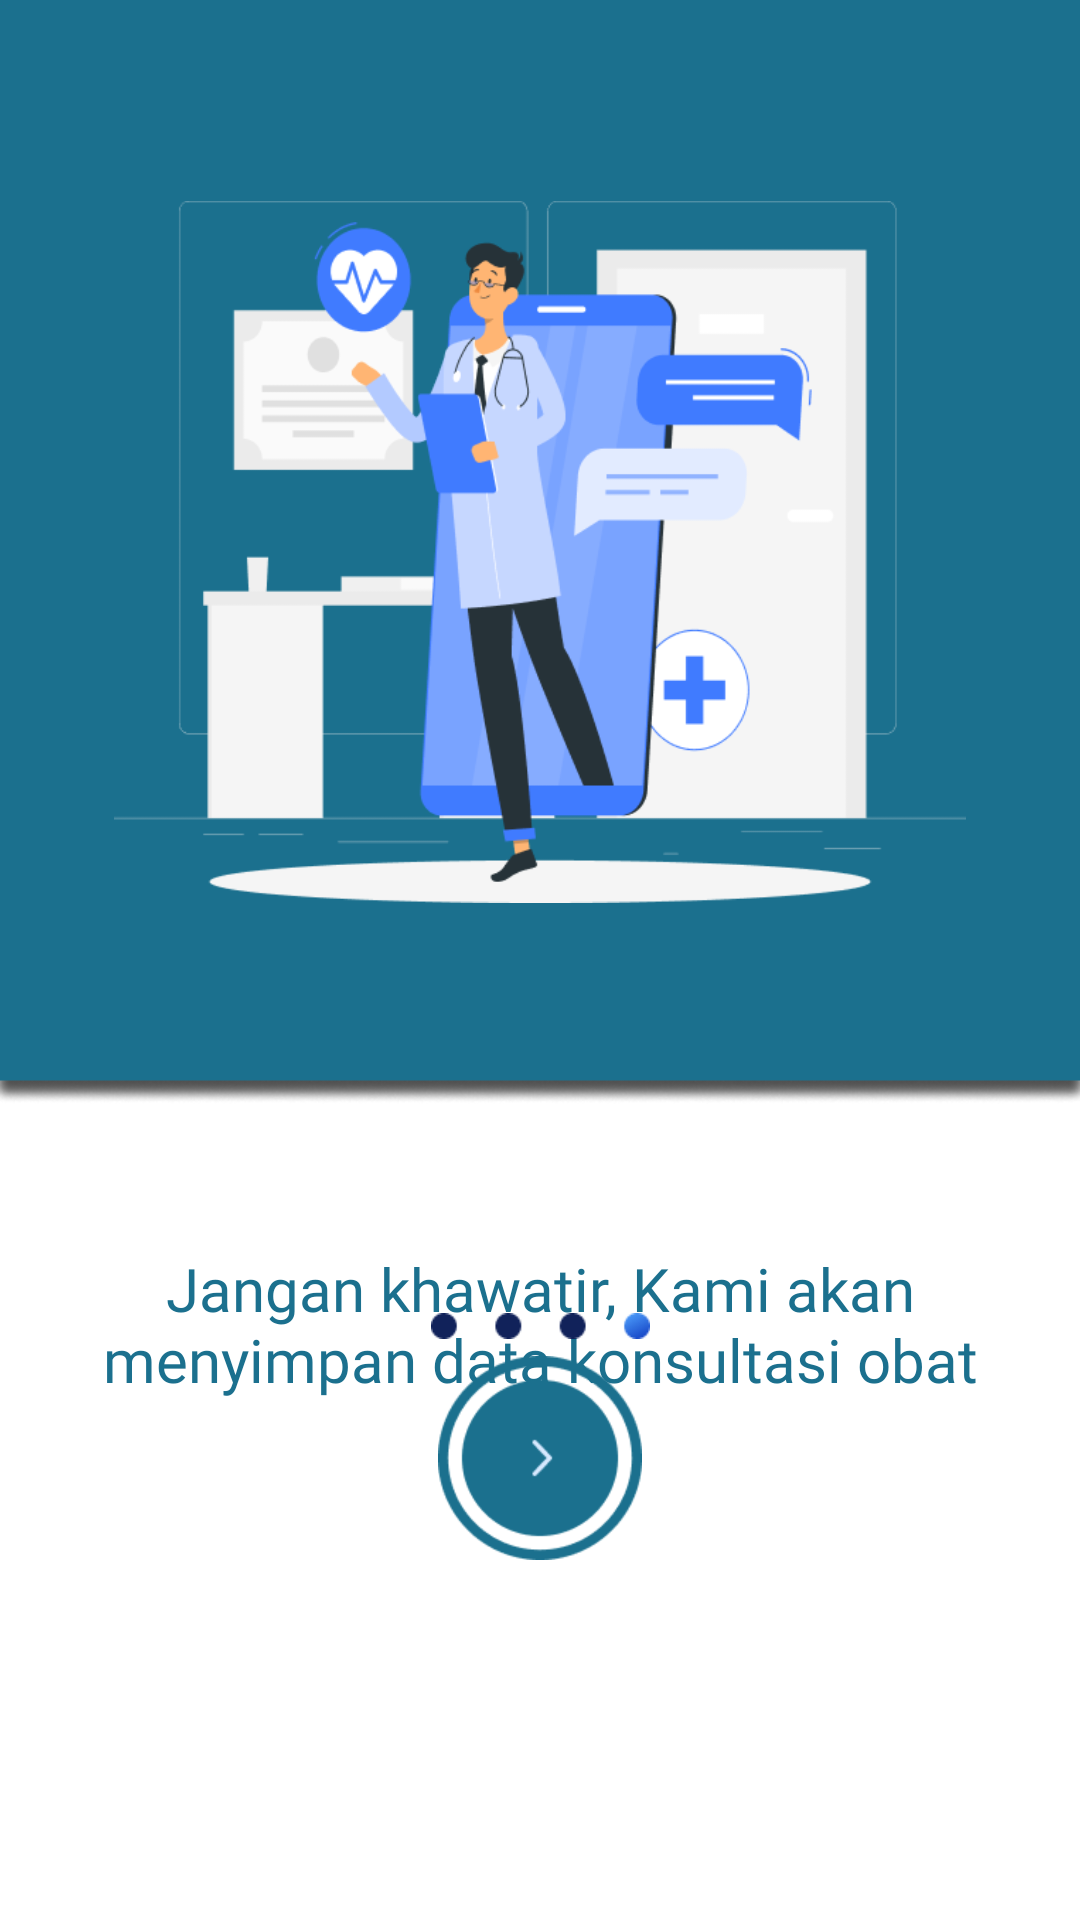

Screen size 1080×1920. Icon name, then its box in pixels as (x1, y1, x2, y2):
Next 4: (438, 1356, 642, 1560)
